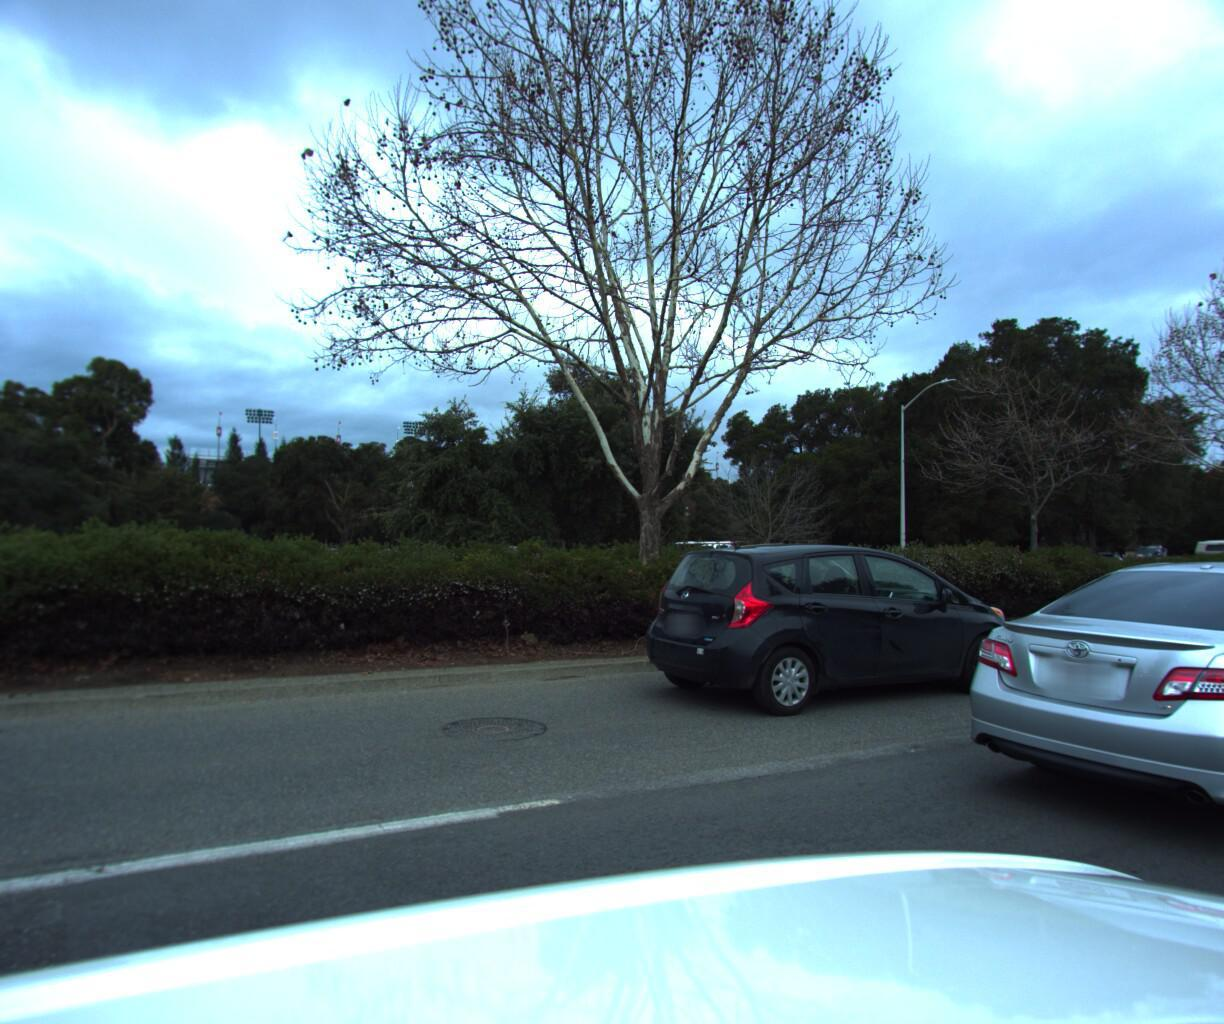car: (915, 556, 1224, 905), (614, 539, 1043, 726)
other_vehicle: (1181, 526, 1224, 588)
